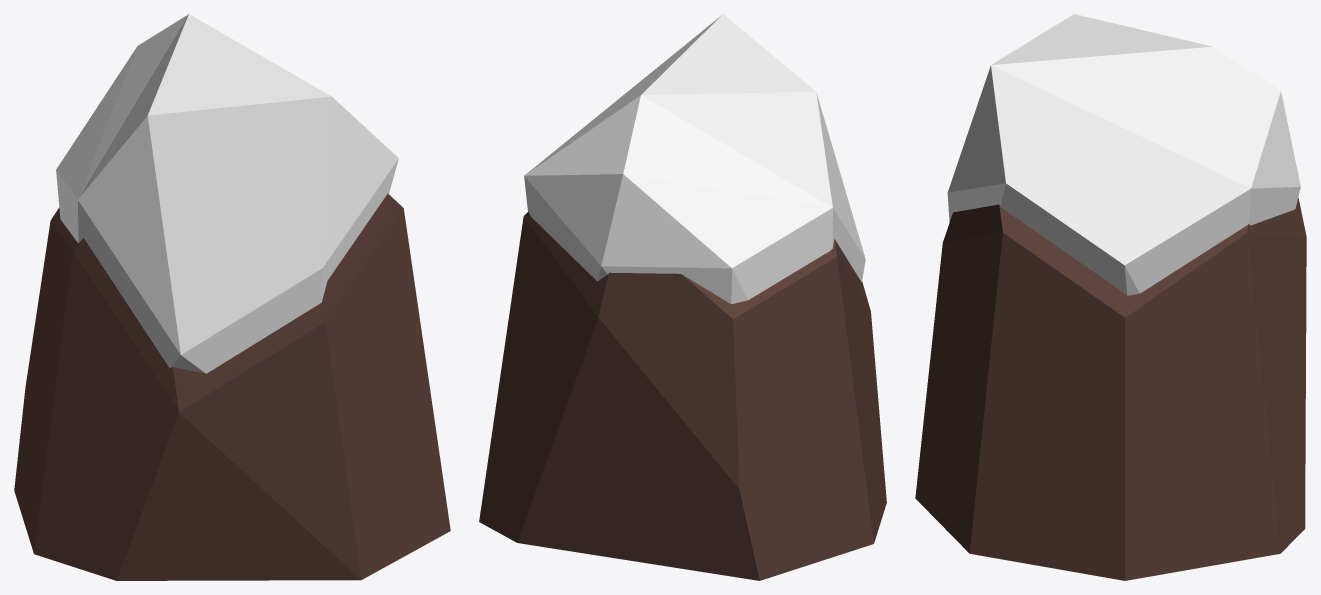
Rendered from snow_rock_014.fbx.
3 renders of one model, left to right at view 1: azimuth 30°, elevation 25°; view 2: azimuth 150°, elevation 25°; view 3: azimuth 270°, elevation 25°, orthographic. The views are drawn at different scales.
Visible parts, largest first — view 1: snow_rock_014; view 2: snow_rock_014; view 3: snow_rock_014.
Part boxes in pixels (x1,y1,x2,y2): snow_rock_014: (14, 14, 450, 580); snow_rock_014: (479, 14, 886, 580); snow_rock_014: (915, 14, 1306, 580).
Size of the model in its own units: 372 by 331 by 414.
